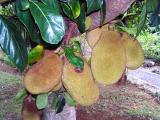jackfruit: (58, 49, 104, 110), (89, 28, 127, 82), (22, 51, 63, 96), (121, 31, 146, 72)
